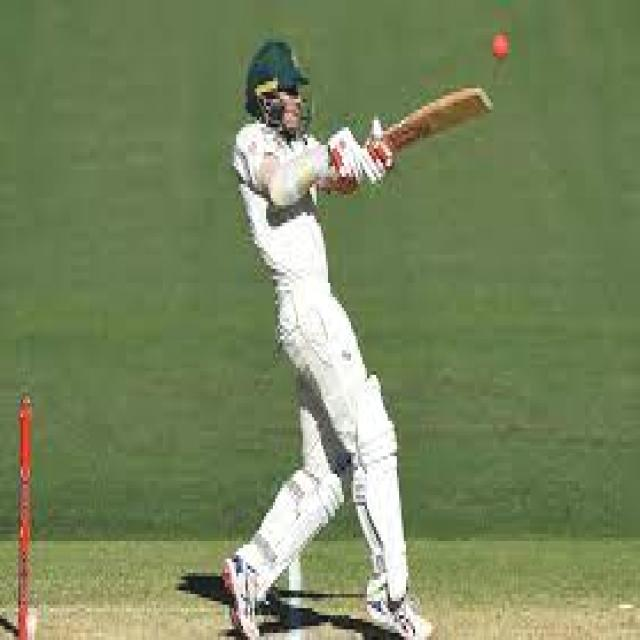toe: (472, 90, 497, 112)
